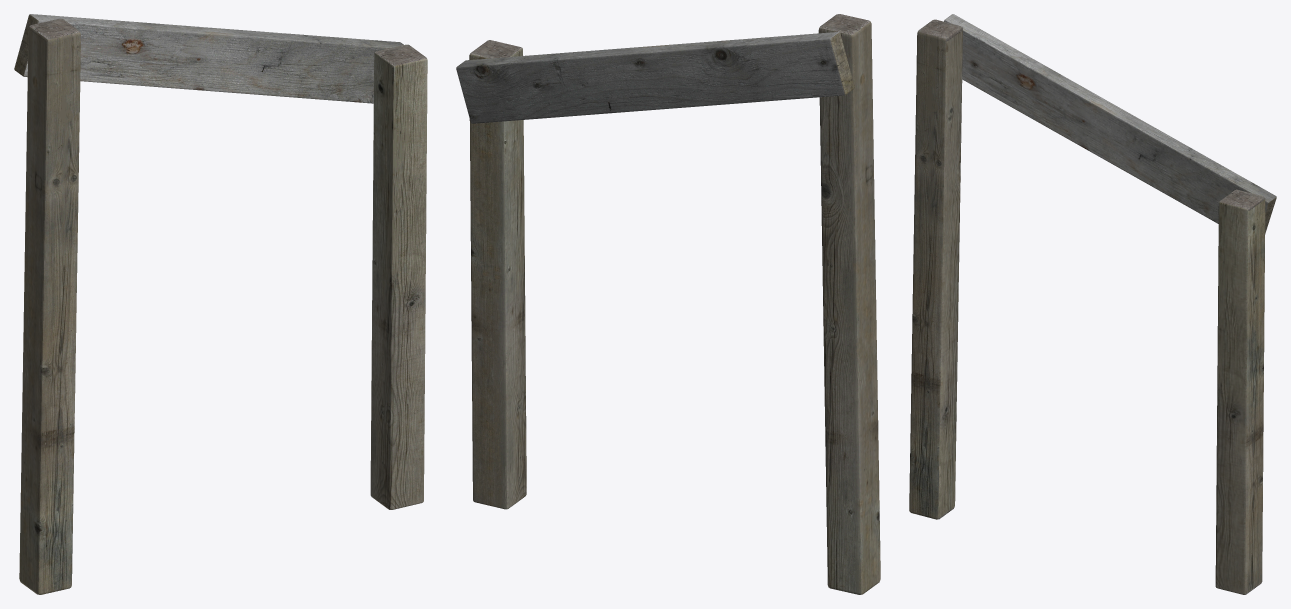
Rendered from board.fbx.
The picture shows the model from 3 angles, left to right: view 1: azimuth 30°, elevation 25°; view 2: azimuth 150°, elevation 25°; view 3: azimuth 330°, elevation 25°; orthographic projection. The views are drawn at different scales.
Parts seen in each view (by area): view 1: board_EXP:pCube4; view 2: board_EXP:pCube4; view 3: board_EXP:pCube4.
Part boxes in pixels (box(x1,y1,x2,y2)): board_EXP:pCube4: box(14, 14, 427, 594); board_EXP:pCube4: box(456, 14, 880, 594); board_EXP:pCube4: box(909, 14, 1276, 594).
Bounding box in the file's own units: 55.49 × 75.11 × 7.5.
